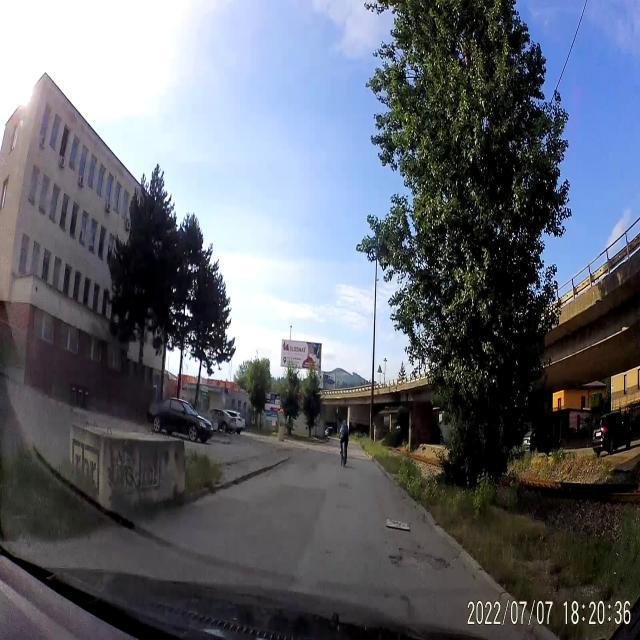Manhole: (382, 512, 414, 534)
Pothole: (385, 536, 456, 582)
